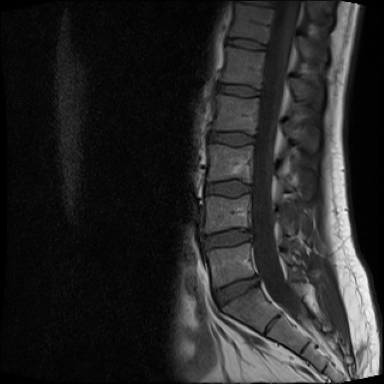Lumbar Disc Bulge (LDB): (205, 269, 264, 315)
Normal IVD: (193, 226, 255, 253), (196, 172, 253, 200), (200, 127, 259, 149), (208, 80, 264, 103), (218, 34, 269, 54)
Spinal Stenosis (SS): (250, 269, 270, 293)
